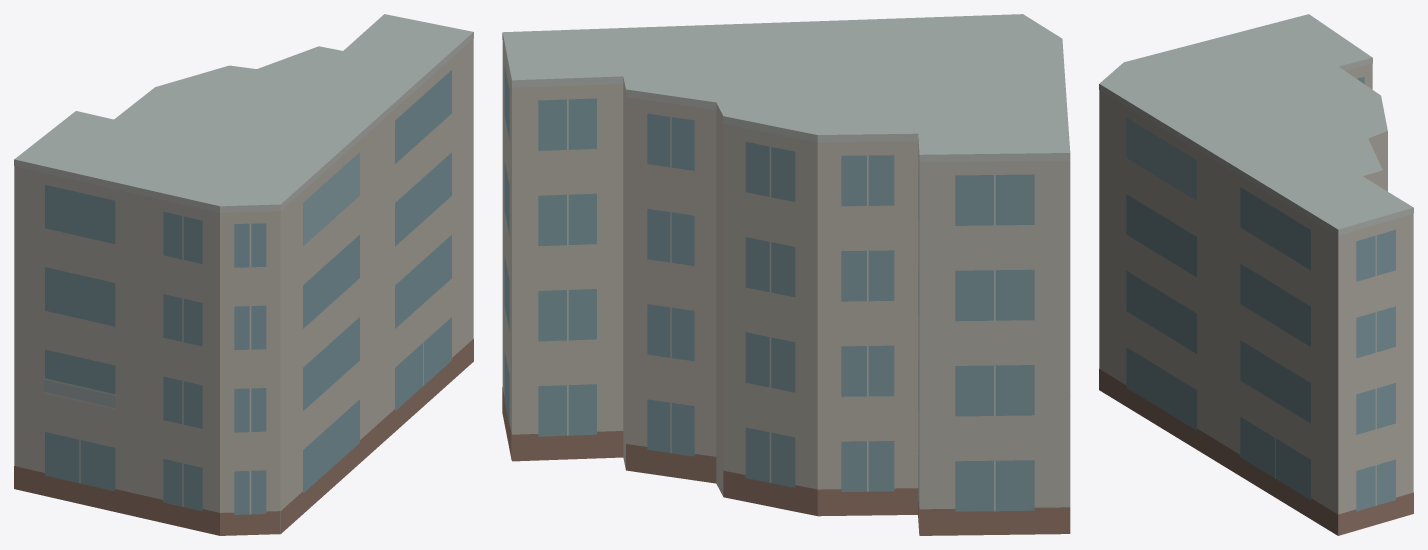
Rendered from residential-57f92dbe-799d-472a-8e7b-4ce156006477.glb.
3 renders of one model, left to right at view 1: azimuth 30°, elevation 25°; view 2: azimuth 150°, elevation 25°; view 3: azimuth 270°, elevation 25°, orthographic. The views are drawn at different scales.
Parts seen in each view (by area): view 1: residential-57f92dbe-799d-472a-8e7b-4ce156006477.tmp; view 2: residential-57f92dbe-799d-472a-8e7b-4ce156006477.tmp; view 3: residential-57f92dbe-799d-472a-8e7b-4ce156006477.tmp.
Part boxes in pixels (bbox=[...]): residential-57f92dbe-799d-472a-8e7b-4ce156006477.tmp: bbox=[14, 14, 473, 535]; residential-57f92dbe-799d-472a-8e7b-4ce156006477.tmp: bbox=[502, 14, 1070, 535]; residential-57f92dbe-799d-472a-8e7b-4ce156006477.tmp: bbox=[1099, 14, 1413, 535].
Bounding box in the file's own units: 18.42 × 12.2 × 11.36.
